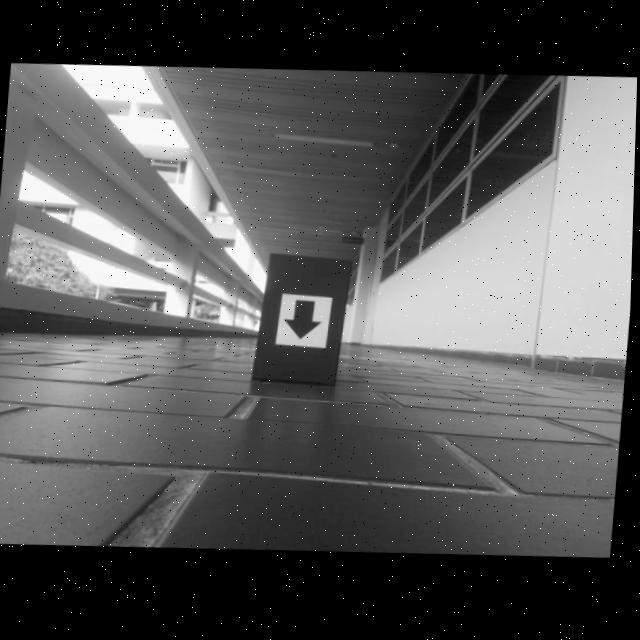DOWN: (285, 301, 325, 342)
